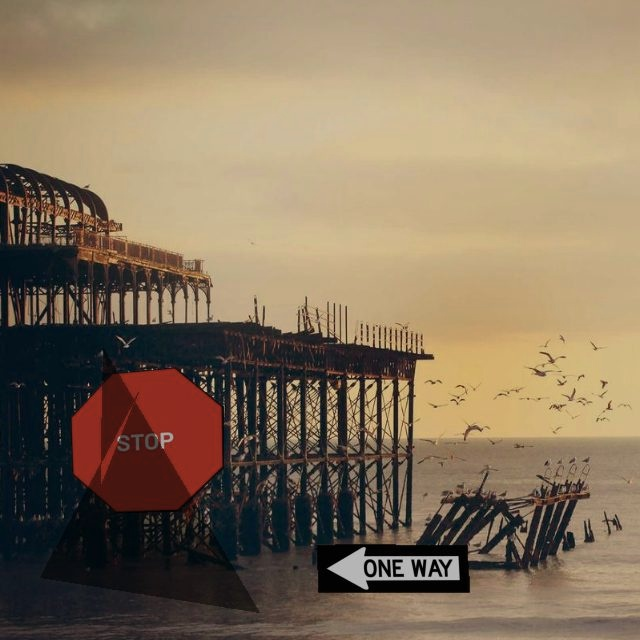ONE_WAY_ left: (316, 544, 470, 593)
STOP: (70, 367, 224, 513)
